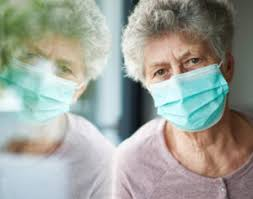mask: (136, 75, 245, 136)
social distancing: (104, 5, 253, 179)
